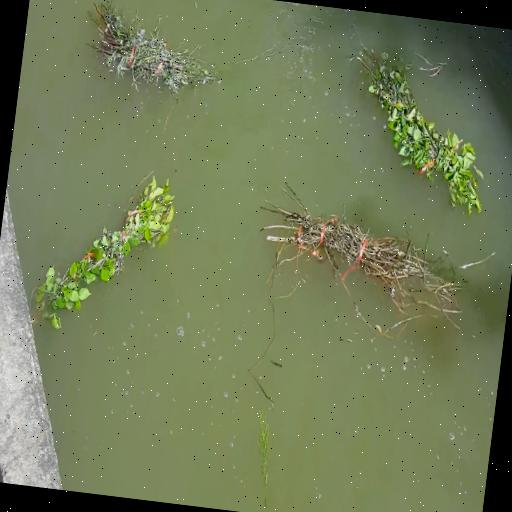twig: (261, 183, 461, 327), (355, 51, 484, 214), (37, 177, 174, 327), (91, 0, 217, 93)
